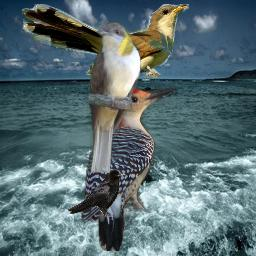Crow: (67, 169, 126, 217)
Cuckoo: (22, 4, 189, 78), (86, 22, 141, 173)
Woodpecker: (81, 87, 177, 251)
